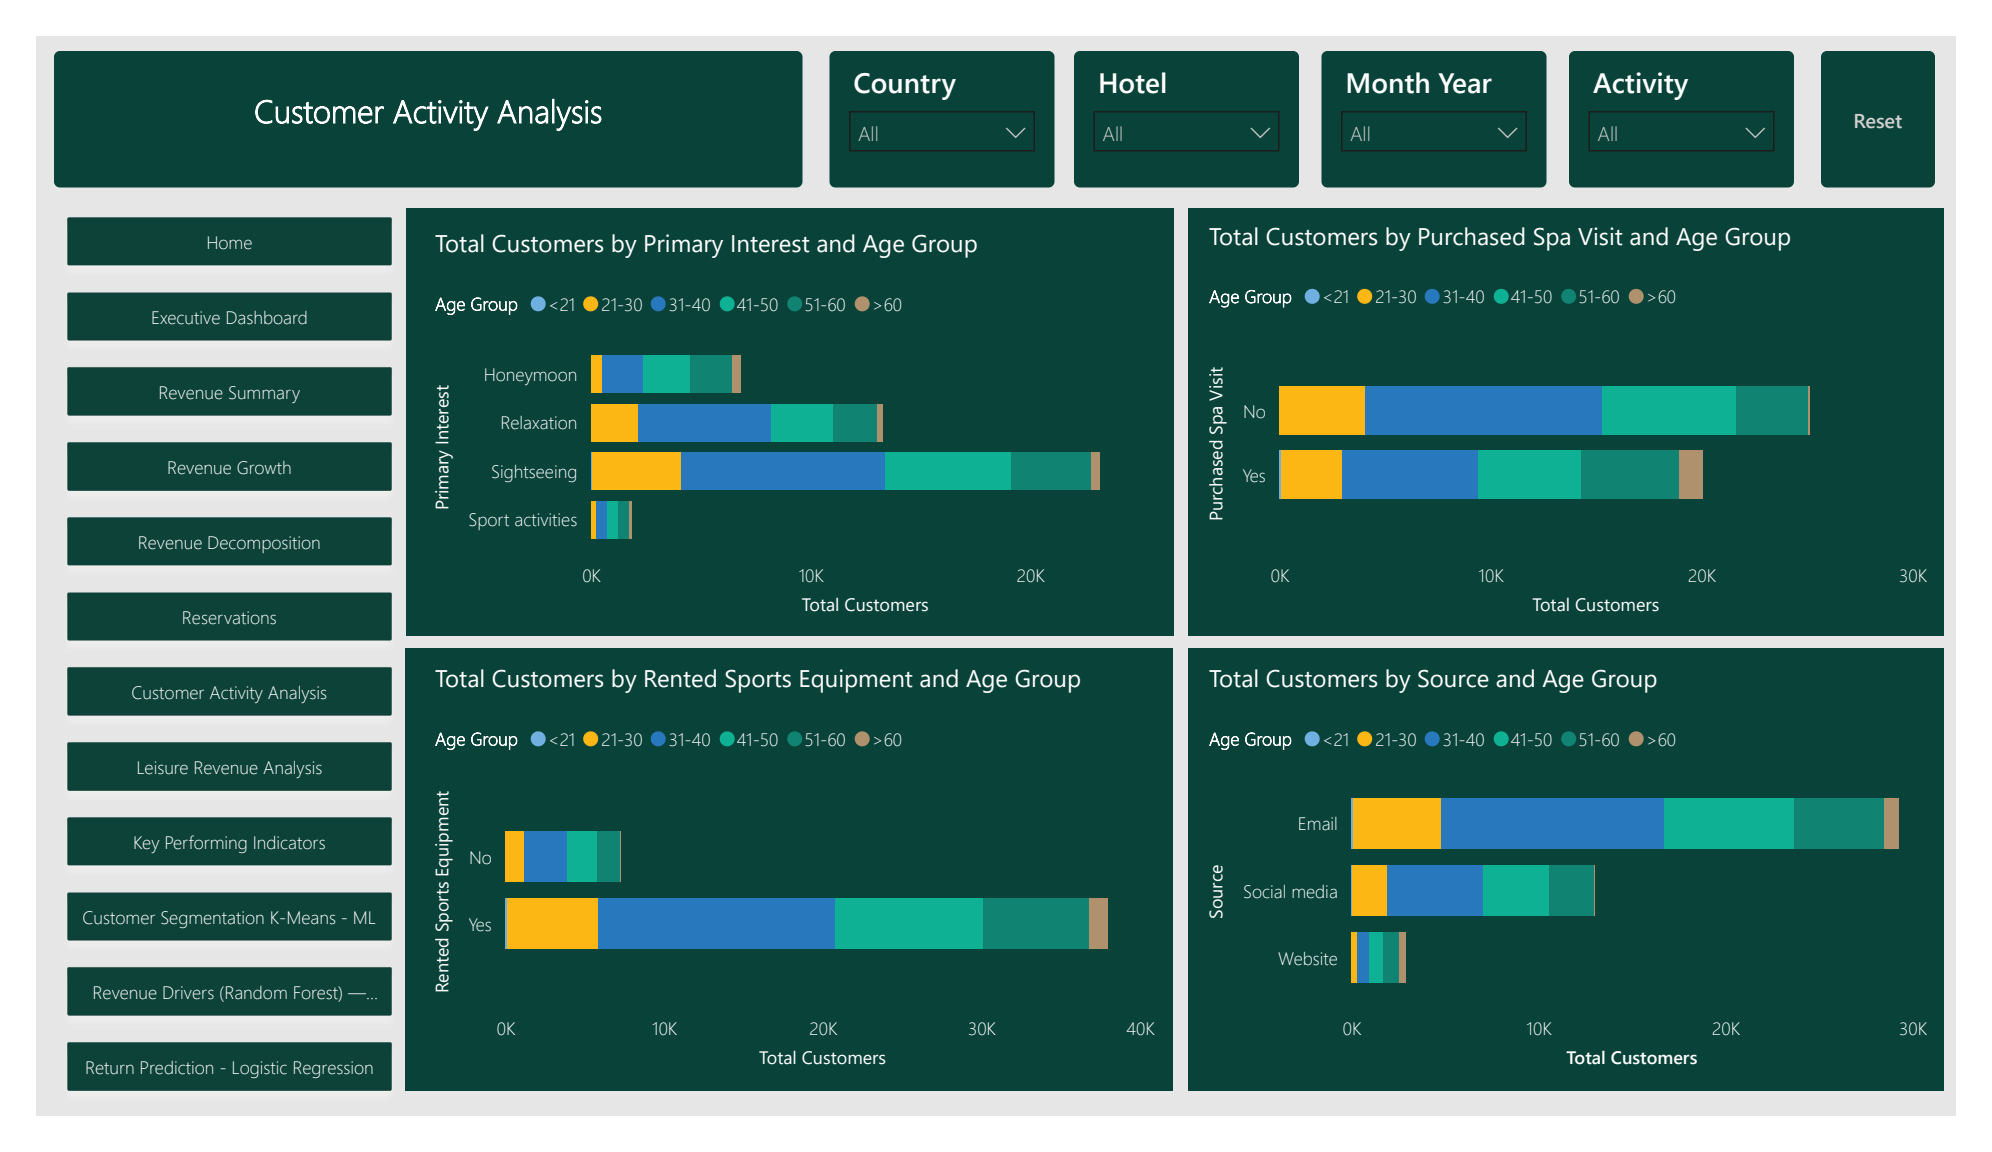

The dashboard page shown, as its layout file describes it:
{"tool":"powerbi","page":{"name":"Customer Activity Analysis","canvas":[1280,720],"ordinal":6},"visuals":[{"type":"shape","box":[246.9,114.9,511.7,284.6],"z":0},{"type":"textbox","box":[11.7,9.9,499.2,90.7],"z":1000},{"type":"slicer","fields":{"Values":["Country.Country"]},"box":[528.8,9.9,150,90.7],"z":2000},{"type":"pageNavigator","box":[11.7,112.2,234.3,607.8],"z":3000},{"type":"slicer","fields":{"Values":["Hotel Visited.Hotel"]},"box":[692.2,9.9,150,90.7],"z":4000},{"type":"slicer","fields":{"Values":["Calender.MonthYear"]},"box":[857.4,9.9,150,90.7],"z":5000},{"type":"slicer","fields":{"Values":["Primary interest.Primary Interest"]},"box":[1021.6,9.9,150,90.7],"z":6000},{"type":"actionButton","box":[1189.5,9.9,76.3,90.7],"z":7000},{"type":"shape","box":[767.6,407.6,504.5,295.4],"z":8000},{"type":"shape","box":[246,407.6,511.7,295.4],"z":9000},{"type":"shape","box":[767.6,114.9,504.5,284.6],"z":10000},{"type":"barChart","fields":{"Category":["Primary interest.Primary Interest"],"Series":["Age.Age Group"],"Y":["Calculations.Total Customers"]},"box":[261.2,127.5,489.3,263],"z":11000},{"type":"barChart","fields":{"Category":["Purchased spa visit.Purchased Spa Visit"],"Series":["Age.Age Group"],"Y":["Calculations.Total Customers"]},"box":[776.6,122.1,489.3,268.4],"z":12000},{"type":"barChart","fields":{"Category":["Rented sports equipment.Rented Sports Equipment"],"Series":["Age.Age Group"],"Y":["Calculations.Total Customers"]},"box":[261.2,416.6,489.3,276.5],"z":13000},{"type":"barChart","fields":{"Category":["Source.Source"],"Series":["Age.Age Group"],"Y":["Calculations.Total Customers"]},"box":[776.6,416.6,489.3,276.5],"z":14000}]}

Visuals, with their boxes in screenshot pixels (x1, y1, x2, y2), scaled from the page's 1280x720 canvas onto the 1992x1152 screenshot:
shape: (384,184,1181,639)
textbox: (18,16,795,161)
slicer - Country.Country: (823,16,1056,161)
pageNavigator: (18,180,383,1151)
slicer - Hotel Visited.Hotel: (1077,16,1311,161)
slicer - Calender.MonthYear: (1334,16,1568,161)
slicer - Primary interest.Primary Interest: (1590,16,1823,161)
actionButton: (1851,16,1970,161)
shape: (1195,652,1980,1125)
shape: (383,652,1179,1125)
shape: (1195,184,1980,639)
barChart - Primary interest.Primary Interest x Age.Age Group: (406,204,1168,625)
barChart - Purchased spa visit.Purchased Spa Visit x Age.Age Group: (1209,195,1970,625)
barChart - Rented sports equipment.Rented Sports Equipment x Age.Age Group: (406,667,1168,1109)
barChart - Source.Source x Age.Age Group: (1209,667,1970,1109)
